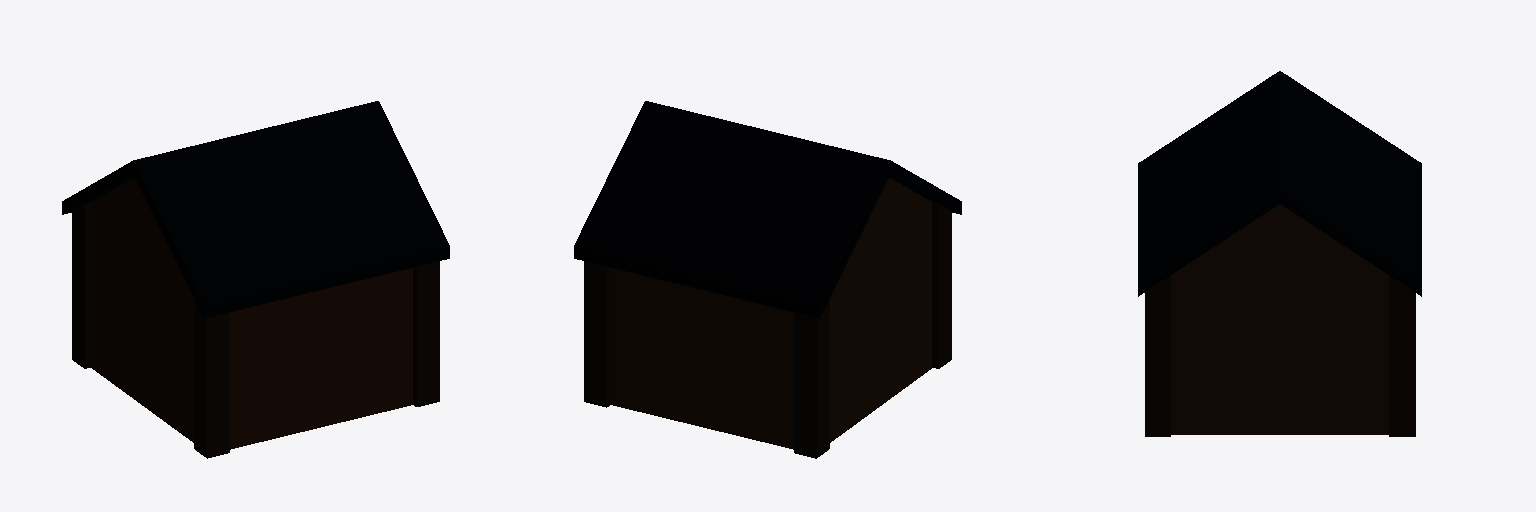
Rendered from house.obj.
3 renders of one model, left to right at view 1: azimuth 30°, elevation 25°; view 2: azimuth 150°, elevation 25°; view 3: azimuth 270°, elevation 25°, orthographic.
Visible parts, largest first — view 1: Cube.001; view 2: Cube.001; view 3: Cube.001.
Boxes of the visible parts, x1=… form: Cube.001: x1=62, y1=101, x2=449, y2=458; Cube.001: x1=574, y1=101, x2=961, y2=458; Cube.001: x1=1138, y1=71, x2=1421, y2=436.
Bounding box in the file's own units: 2 × 1.95 × 2.